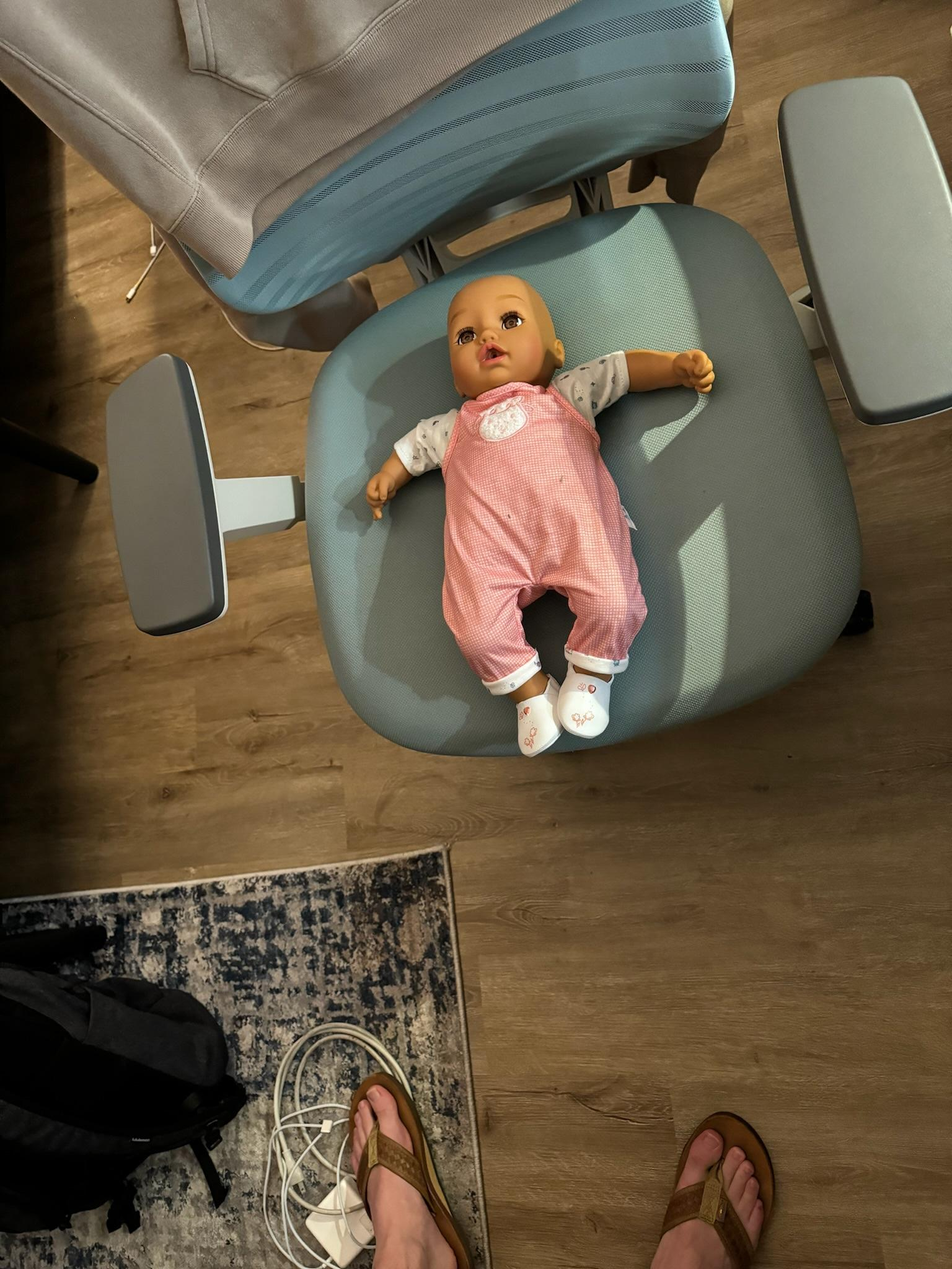baby: (343, 269, 735, 766)
